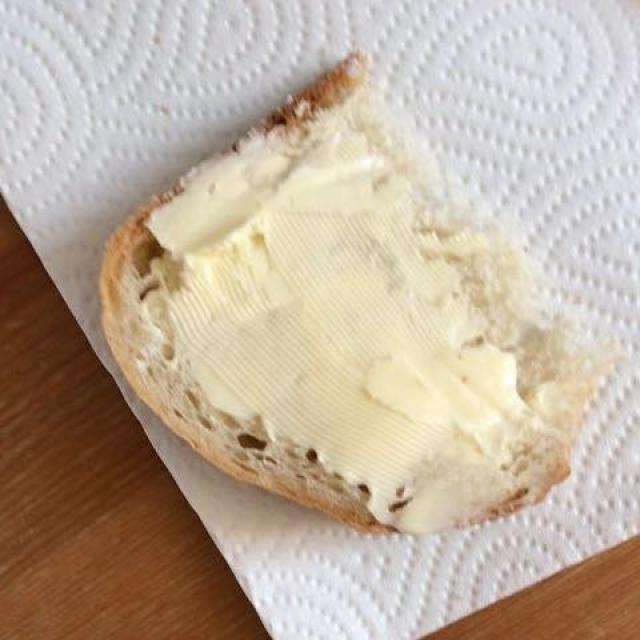bread: (105, 67, 614, 533)
butter: (153, 83, 577, 520)
